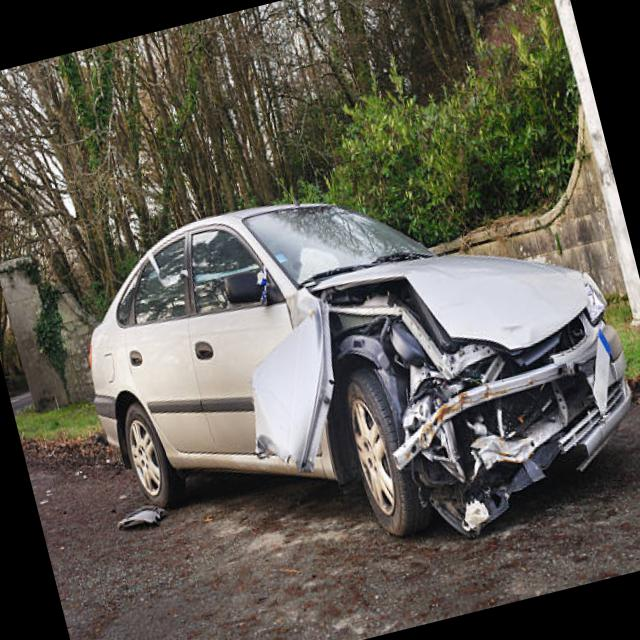Shatter: (249, 270, 615, 530)
